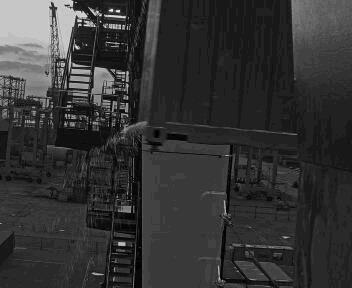twist_lock_1: (196, 167, 234, 202)
